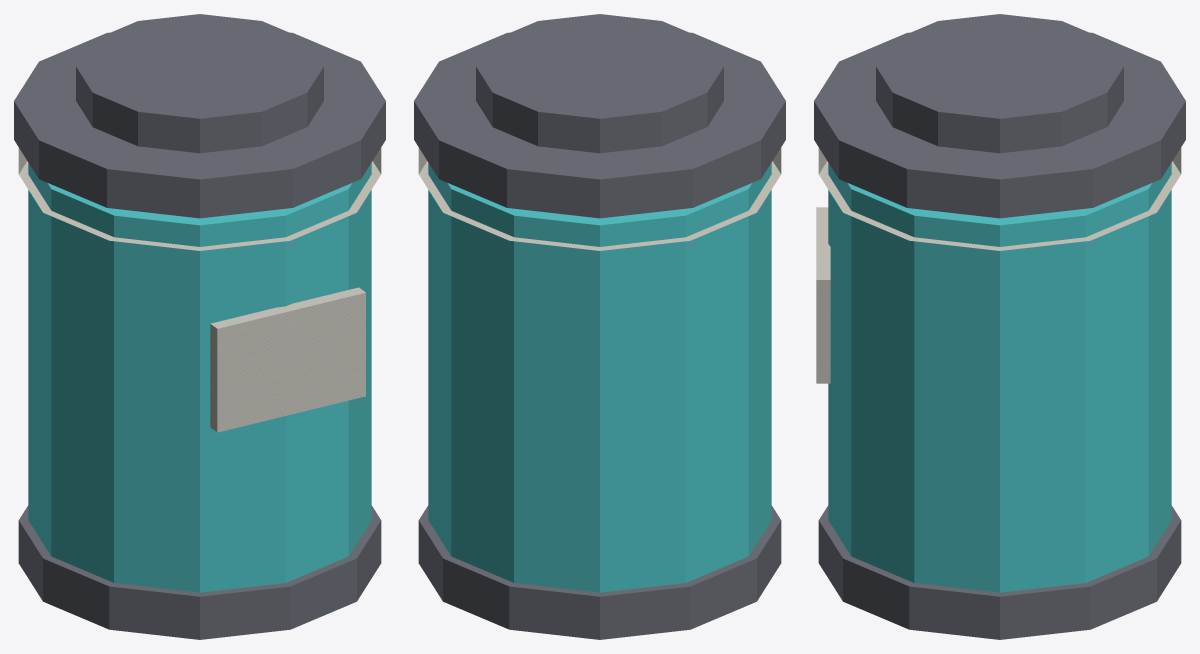
File: theme-park-rides-and-coasters-theme-park-rides-and-coa-1aed5011__28710.glb
3 renders of one model, left to right at view 1: azimuth 30°, elevation 25°; view 2: azimuth 150°, elevation 25°; view 3: azimuth 270°, elevation 25°, orthographic.
Visible parts, largest first — view 1: theme-park-rides-and-coasters-litter-bin, lid; view 2: theme-park-rides-and-coasters-litter-bin, lid; view 3: theme-park-rides-and-coasters-litter-bin, lid.
Boxes of the visible parts, x1,y1,x2,y2 form: theme-park-rides-and-coasters-litter-bin: [18, 147, 381, 639]; lid: [14, 14, 385, 218]; theme-park-rides-and-coasters-litter-bin: [418, 147, 781, 639]; lid: [414, 14, 785, 218]; theme-park-rides-and-coasters-litter-bin: [816, 147, 1181, 639]; lid: [814, 14, 1185, 218].
Bounding box in the file's own units: 0.78 × 1.15 × 0.78.
Materials: 3 (1 with a texture image).
